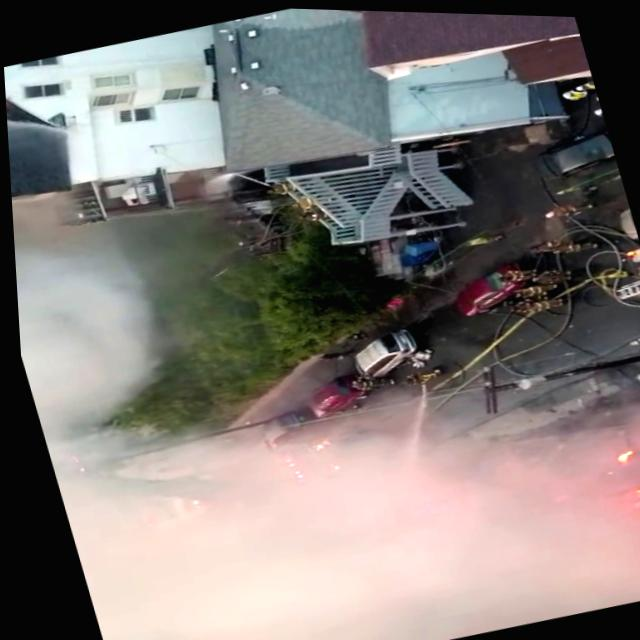smoke: (64, 460, 478, 640)
